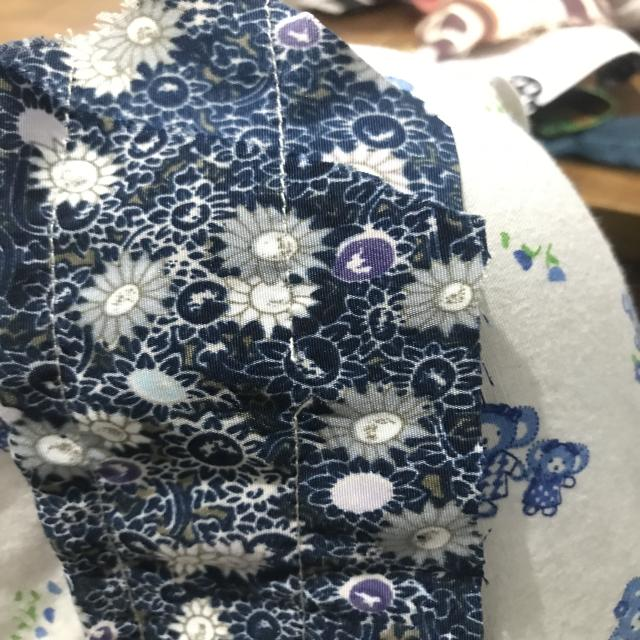broken: (244, 331, 336, 420)
